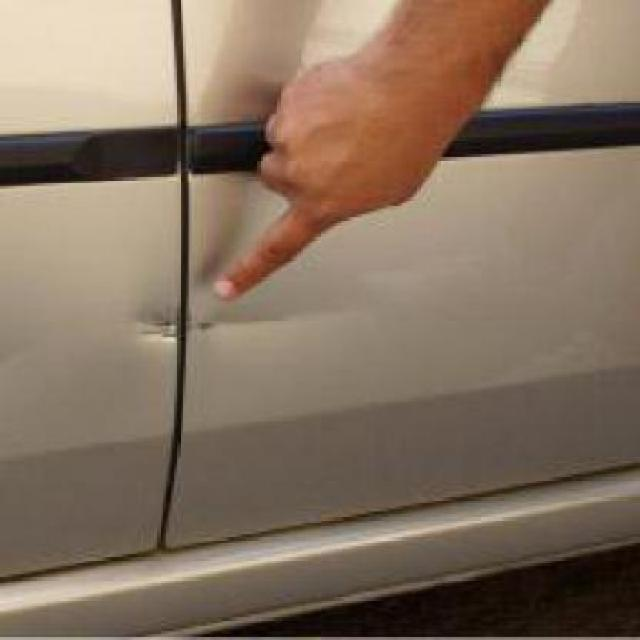dent-or-scratch: (141, 303, 234, 359)
